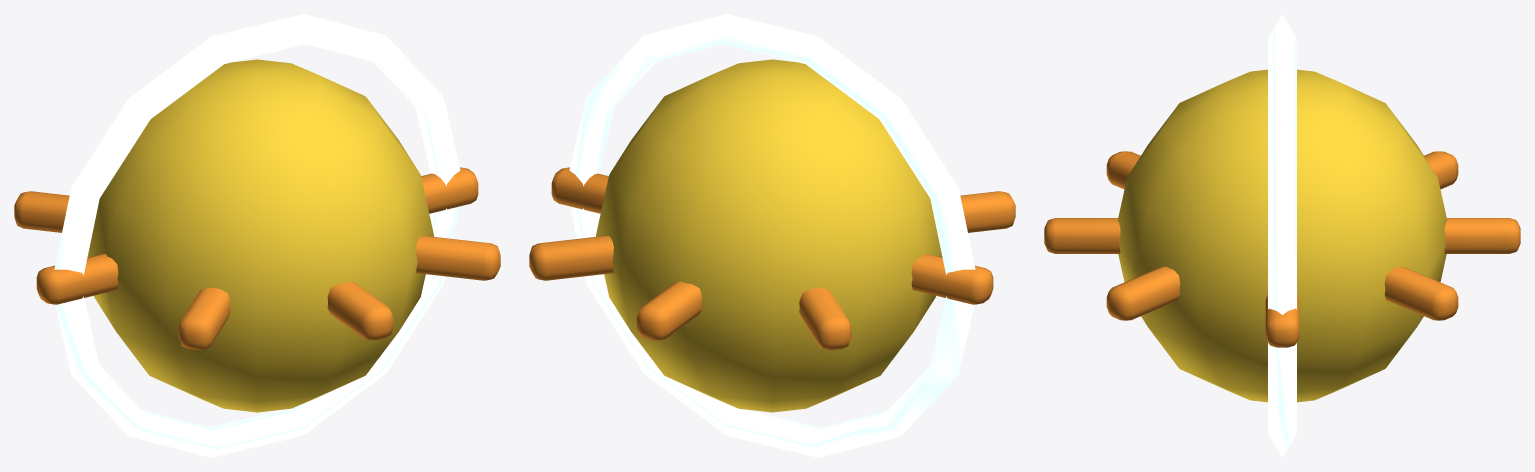
Rendered from SunOrb.fbx.
3 renders of one model, left to right at view 1: azimuth 30°, elevation 25°; view 2: azimuth 150°, elevation 25°; view 3: azimuth 270°, elevation 25°, orthographic. The views are drawn at different scales.
Visible parts, largest first — view 1: SunOrb; view 2: SunOrb; view 3: SunOrb.
Boxes of the visible parts, x1,y1,x2,y2 form: SunOrb: [14, 14, 500, 457]; SunOrb: [529, 14, 1015, 457]; SunOrb: [1044, 14, 1520, 457].
Size of the model in its own units: 0.17 by 0.1579 by 0.17.
